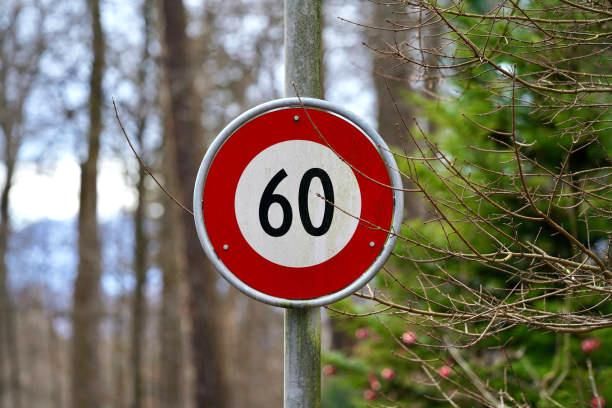Speed Limit -60-: (200, 102, 395, 301)
